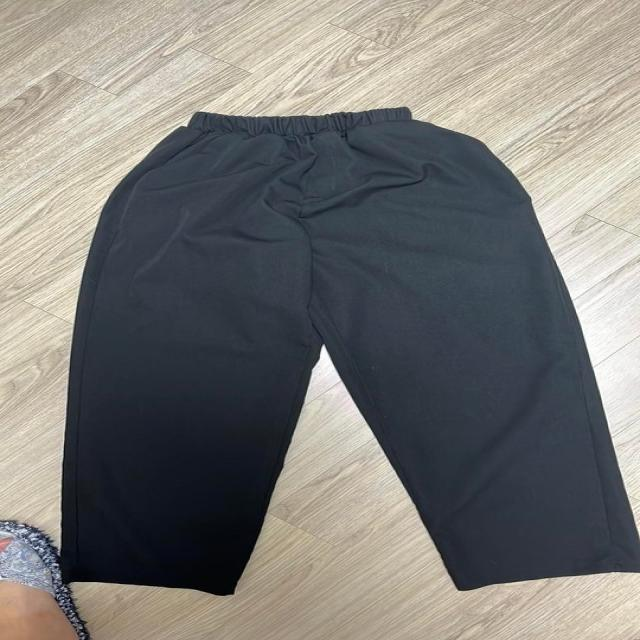long-pants: (54, 106, 640, 593)
